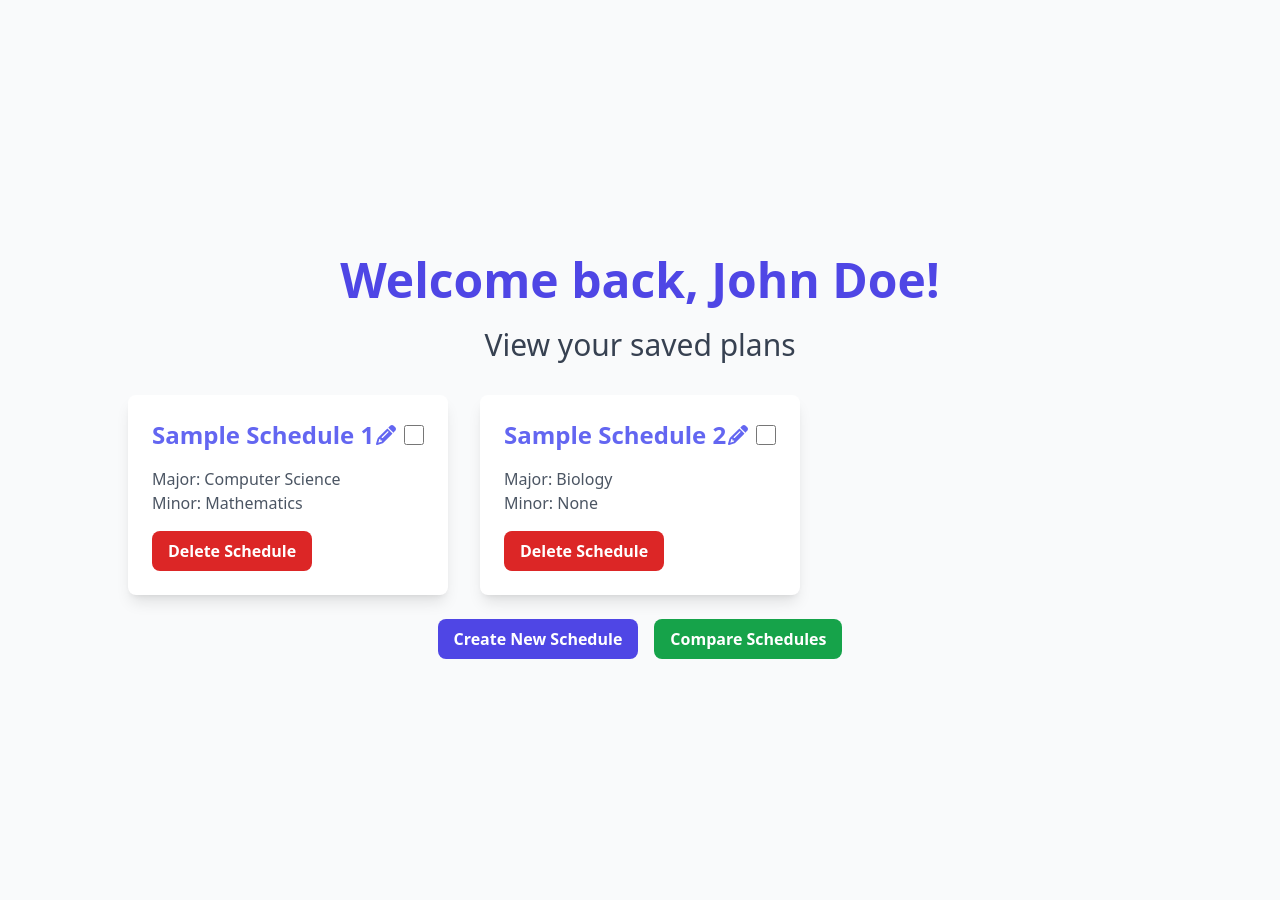
Test: HomePage › opens delete confirmation modal when delete button is clicked
The width and height of the screenshot is (1280, 900).
Expected: the heading "Sample Schedule 1" is shown, [152,419,374,451]
# Find and click the first "Delete Schedule" button
Click the button "Delete Schedule" below "Mathematics".
click(232, 551)  # box [152,531,312,571]
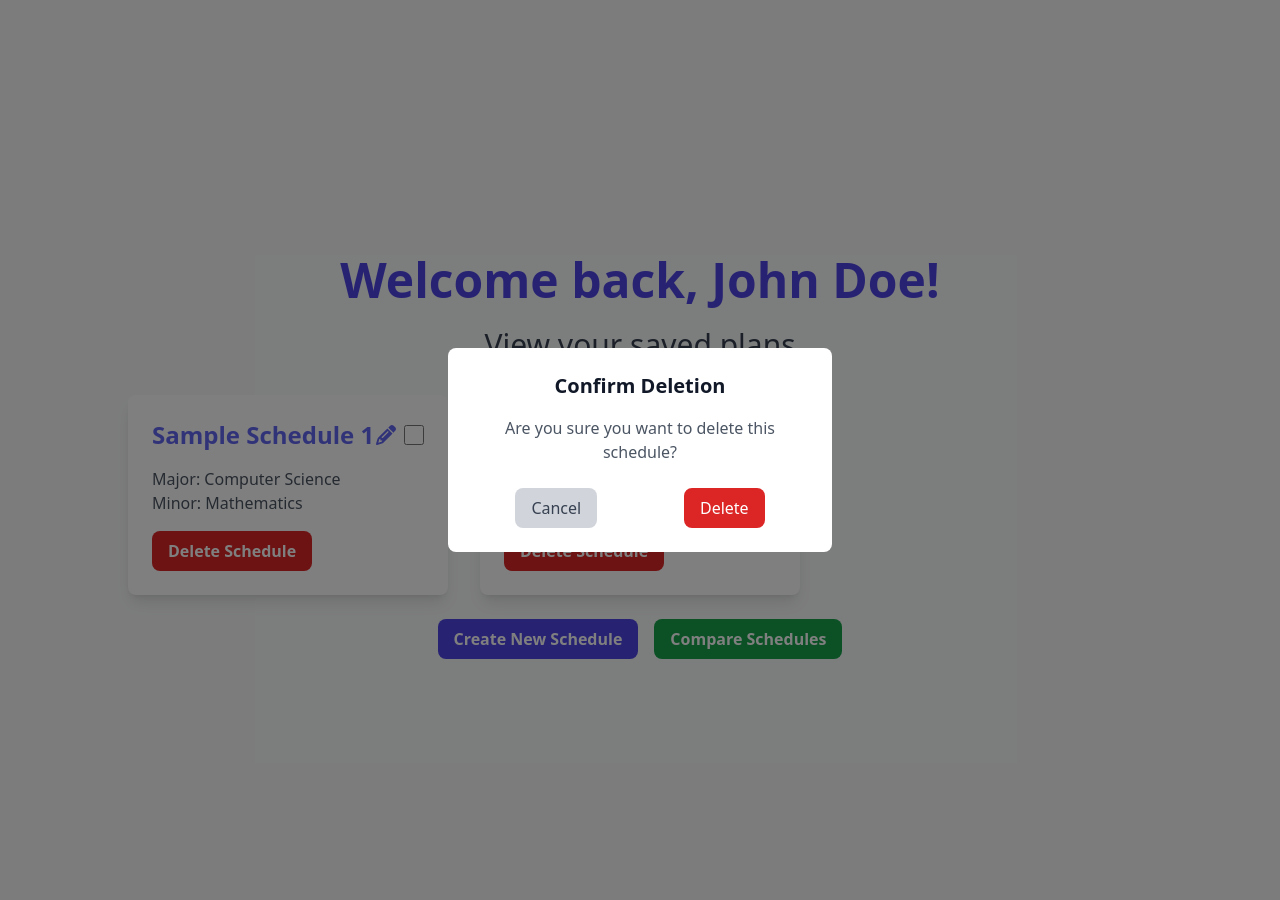
Result: the heading "Confirm Deletion" is shown at [555,372,726,399]
